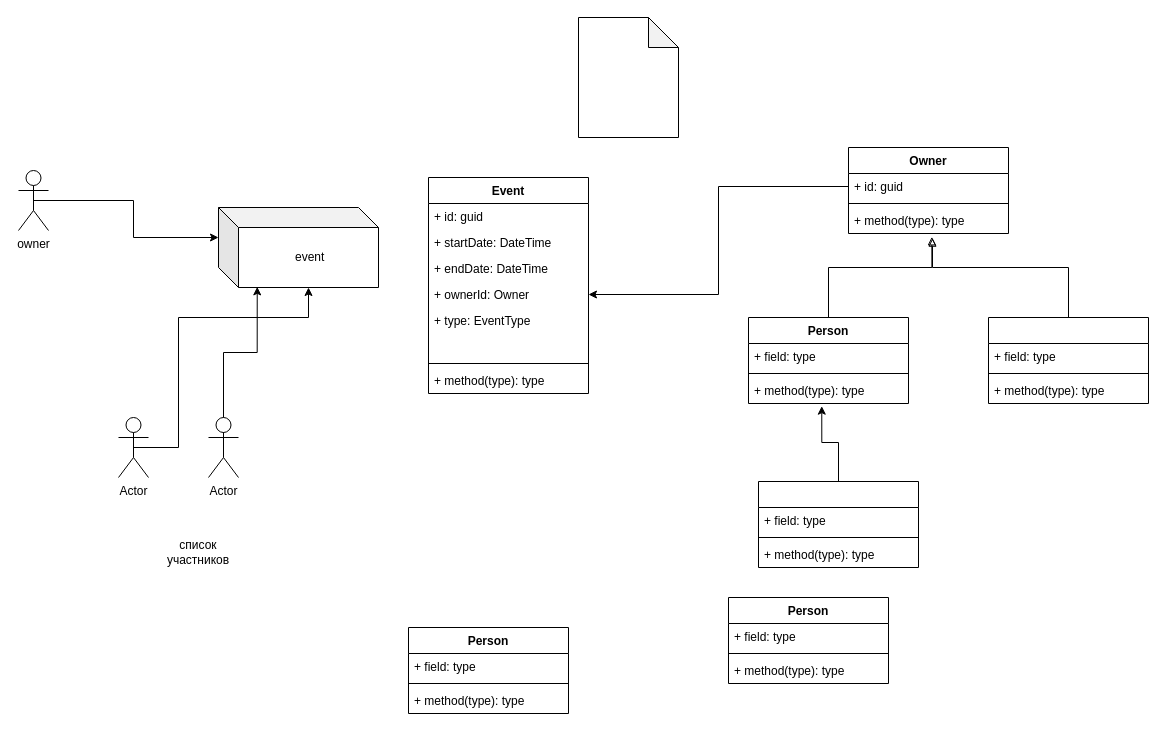
This 1166x734 diagram has some shape labels left out. The box of each missing label's shape, as (x1, y1, x2, y2) in pixels:
Company: (988, 316, 1148, 404)
EventType 0: none 1: lecture 2: conference: (578, 16, 678, 138)
Member: (758, 480, 918, 568)
